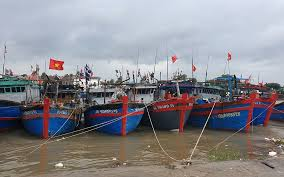tau_dansu: (22, 66, 81, 139), (190, 75, 255, 135), (85, 73, 144, 136), (148, 70, 192, 134), (236, 74, 277, 133)
